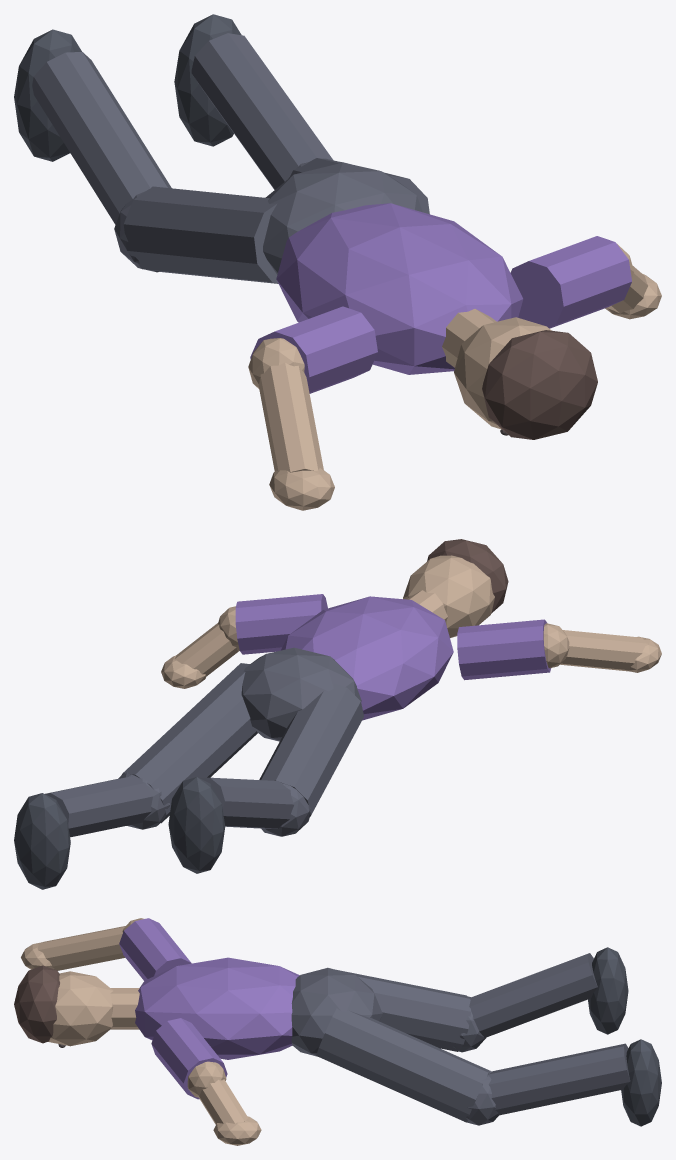
The picture shows the model from 3 angles, top to bottom: view 1: azimuth 30°, elevation 25°; view 2: azimuth 150°, elevation 25°; view 3: azimuth 270°, elevation 25°; orthographic projection. The views are drawn at different scales.
Parts seen in each view (by area): view 1: world; view 2: world; view 3: world.
Part boxes in pixels (box(x1,y1,x2,y2)): world: box(14, 14, 661, 510); world: box(14, 539, 661, 889); world: box(14, 918, 661, 1145).
Bounding box in the file's own units: 1.25 × 0.4125 × 2.01.
